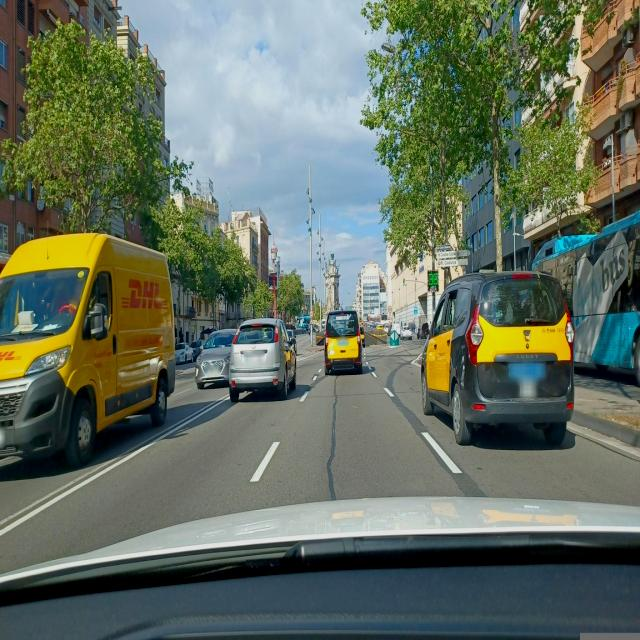car: (0, 232, 176, 472), (414, 271, 570, 451), (228, 316, 297, 402), (195, 328, 239, 389), (324, 308, 363, 375), (189, 339, 206, 363), (175, 342, 192, 364), (399, 322, 413, 341)
